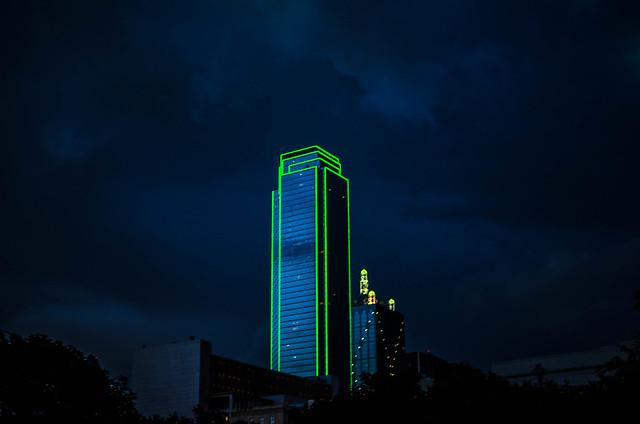building: (266, 141, 354, 392)
